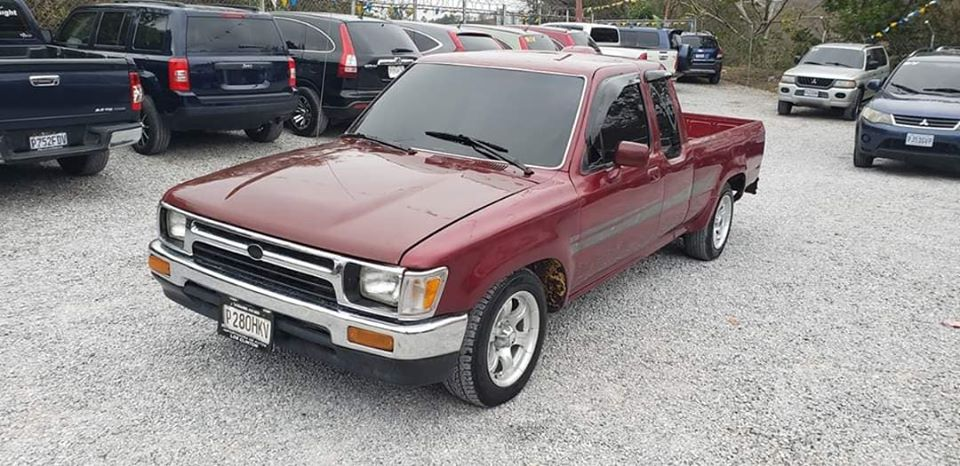pickup: (169, 49, 766, 398)
